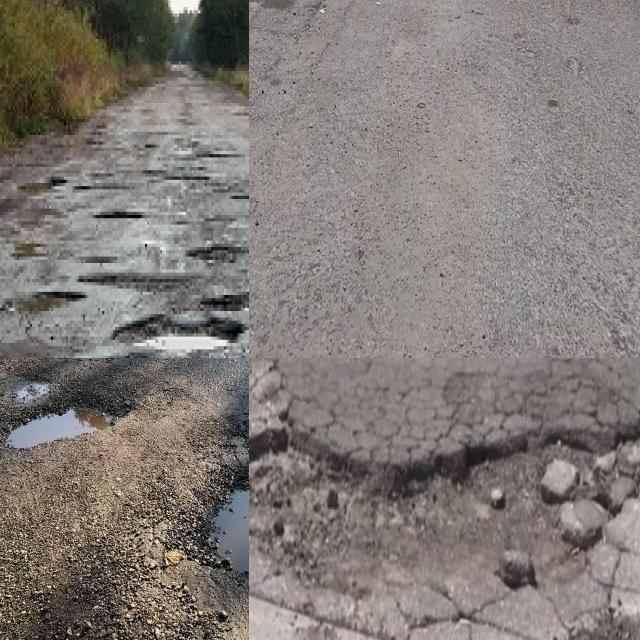Pothole: (249, 417, 640, 597), (3, 408, 112, 450), (113, 321, 230, 356), (208, 487, 249, 574), (75, 269, 194, 292), (0, 285, 68, 317), (185, 244, 241, 266), (15, 382, 57, 399), (96, 209, 143, 221)
